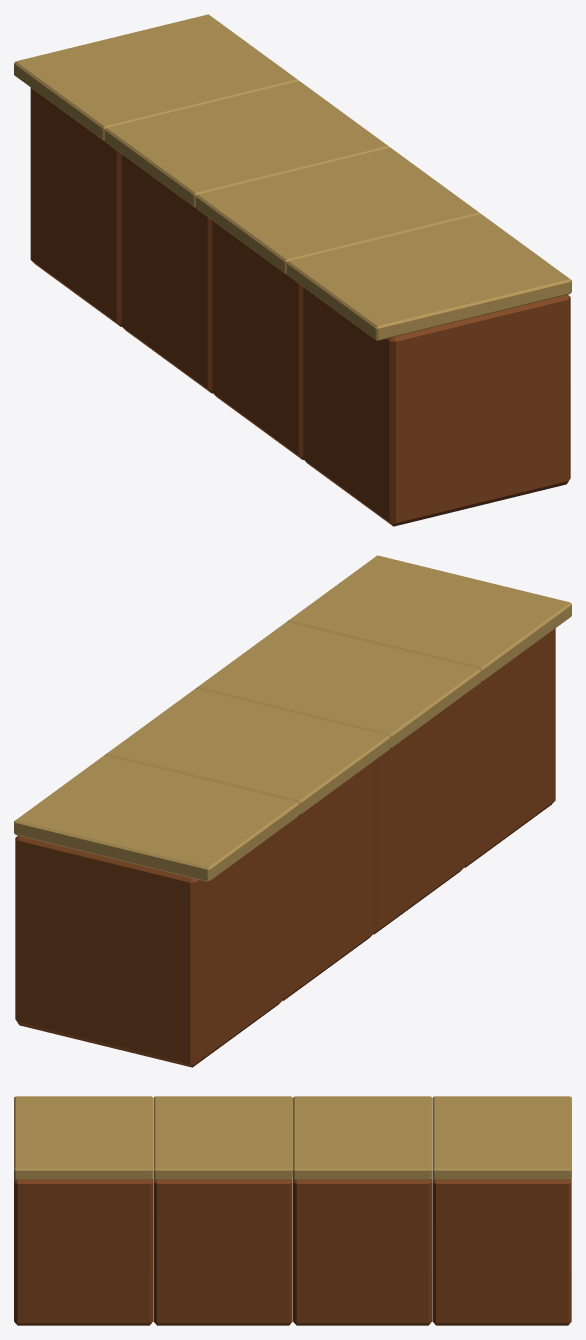
Rendered from Table.fbx.
The picture shows the model from 3 angles, top to bottom: view 1: azimuth 30°, elevation 25°; view 2: azimuth 150°, elevation 25°; view 3: azimuth 270°, elevation 25°; orthographic projection. The views are drawn at different scales.
Parts seen in each view (by area): view 1: Table; view 2: Table; view 3: Table.
Boxes of the visible parts, x1,y1,x2,y2 form: Table: (14,14,571,526); Table: (14,555,571,1067); Table: (14,1096,571,1325).
Size of the model in its own units: 499 by 499 by 1599.
Materials: 1 (1 with a texture image).
